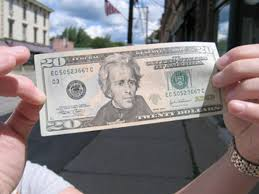billete: (34, 42, 228, 135)
